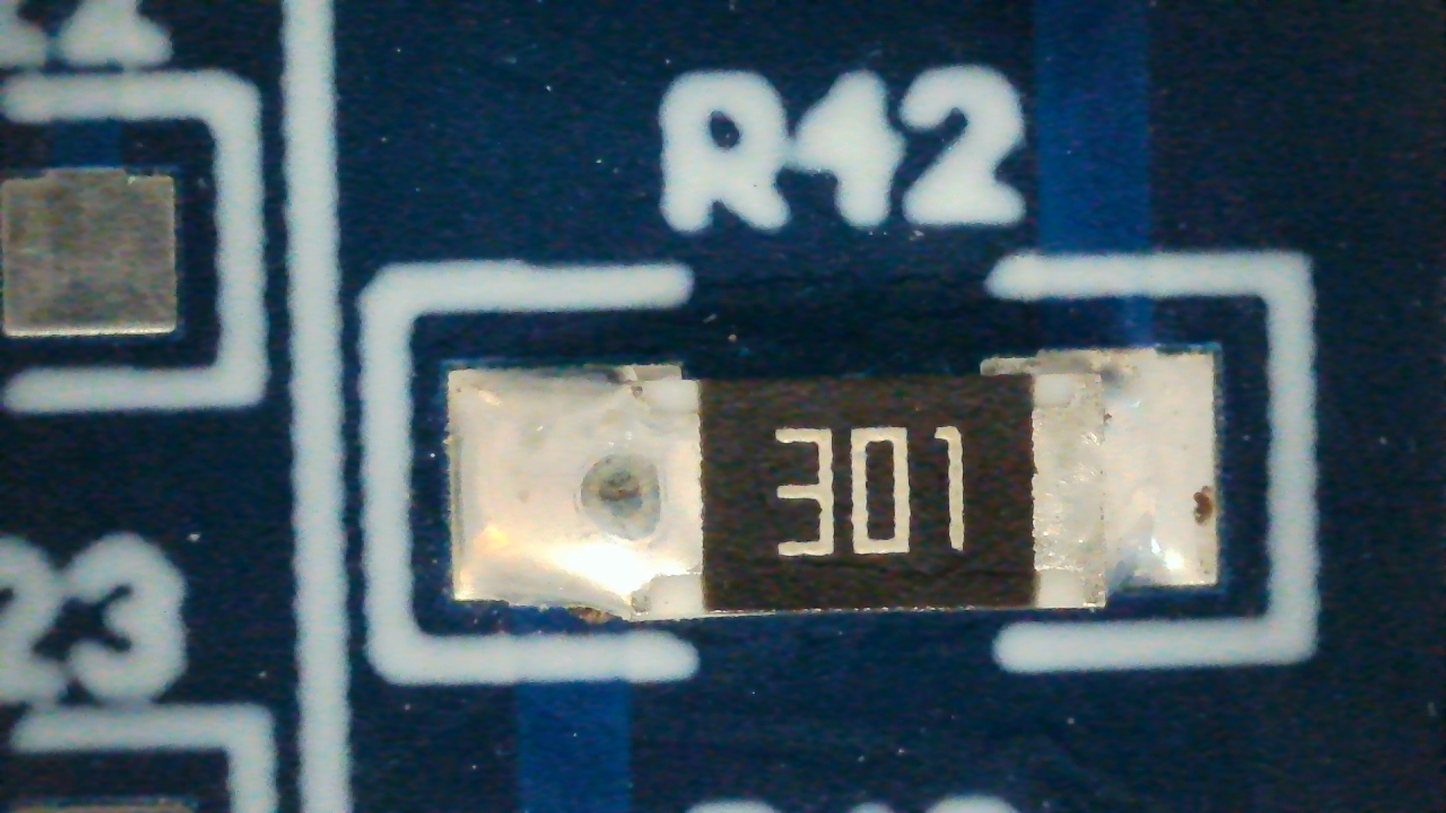OK: (447, 352, 1216, 623)
